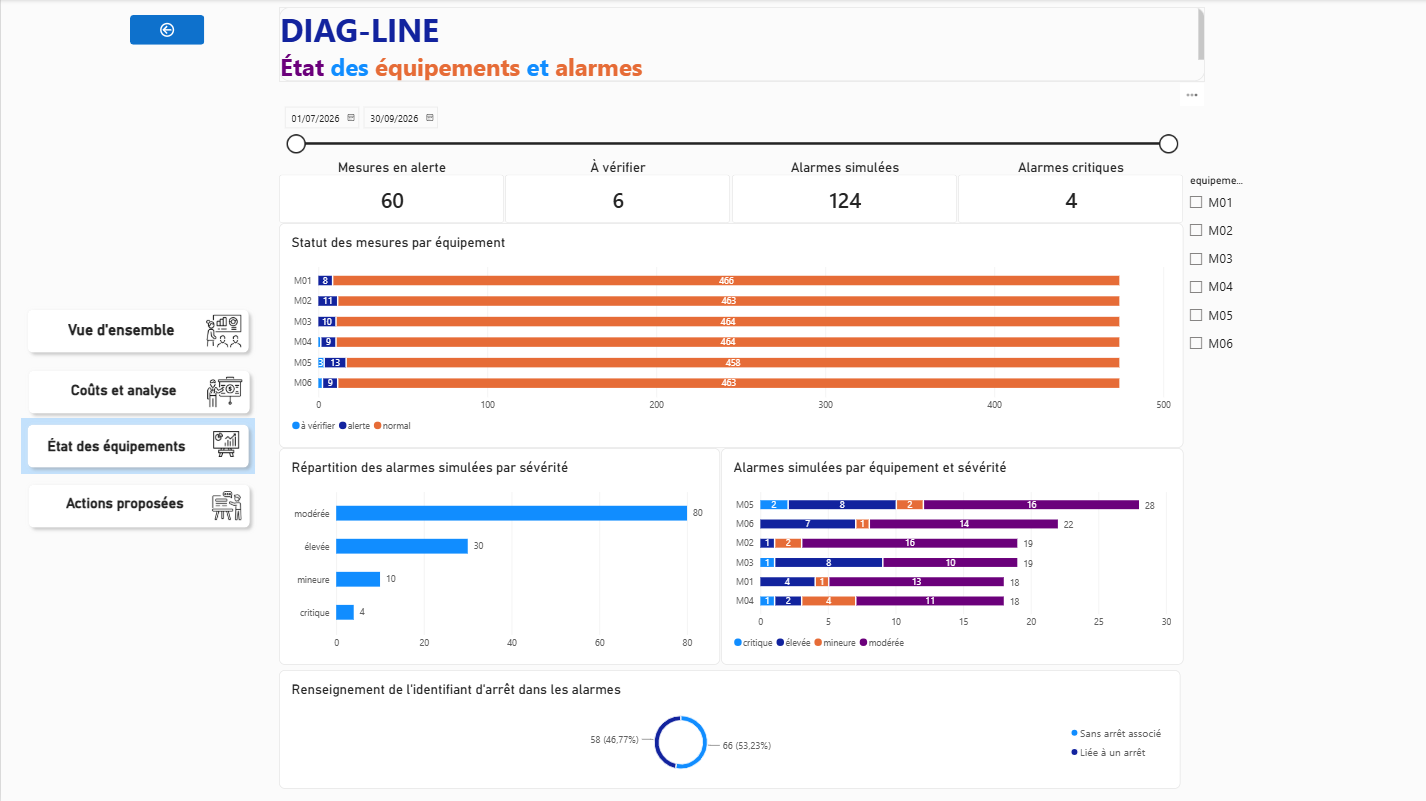

The dashboard page shown, as its layout file describes it:
{"tool":"powerbi","page":{"name":"03 - État des équipements ","canvas":[1920,1080],"ordinal":2},"visuals":[{"type":"textbox","box":[374.3,11.4,1247.1,100],"z":0},{"type":"group","id":"g1","title":"Group 4","box":[26.7,564.4,315.7,75.7],"z":0,"group":"g6"},{"type":"actionButton","box":[174.3,21.4,100,40],"z":1000},{"type":"group","id":"g2","title":"Group 1","box":[27,410,315.7,75.7],"z":1000,"group":"g7"},{"type":"actionButton","title":" État des équipements ","box":[56.8,591.4,197.8,26.7],"z":1000,"group":"g6"},{"type":"slicer","fields":{"Values":["equipements.equipement_id"]},"box":[1592.9,235.7,100,254.3],"z":2000},{"type":"barChart","title":"Statut des mesures par équipement","fields":{"Category":["mesures_condition.equipement_id"],"Series":["mesures_condition.statut_mesure"],"Y":["CountNonNull(mesures_condition.mesure_id)"]},"box":[374.5,301.8,1217.8,303.1],"z":2000,"group":"g3"},{"type":"actionButton","title":"Vue d''ensemble","box":[90,434.4,164.4,25.6],"z":2000,"group":"g7"},{"type":"shape","box":[26.7,564.4,315.7,75.7],"z":2000,"group":"g1"},{"type":"group","id":"g3","title":"Group 2","box":[374.3,140,1218.6,922.9],"z":3000},{"type":"slicer","fields":{"Values":["mesures_condition.date_heure"]},"box":[374.8,140,1214.3,76.9],"z":3000,"group":"g3"},{"type":"shape","box":[27,410,315.7,75.7],"z":3000,"group":"g2"},{"type":"shape","box":[27.8,491.1,315.7,75.7],"z":3000,"group":"g9"},{"type":"group","id":"g4","title":"Group 6","box":[27.8,491.1,315.7,75.7],"z":3001},{"type":"group","id":"g5","title":"Group 3","box":[27.8,645.6,315.7,75.7],"z":3002},{"type":"group","id":"g6","title":"Group 5","box":[26.7,564.4,315.6,75.6],"z":3003},{"type":"group","id":"g7","title":"Group 7","box":[27,410,315.7,75.7],"z":3004},{"type":"cardVisual","title":"Mesures en alerte","fields":{"Data":["CountNonNull(mesures_condition.mesure_id)"]},"box":[374.8,215.8,304,86.6],"z":4000,"group":"g8"},{"type":"clusteredBarChart","title":"Répartition des alarmes simulées par sévérité","fields":{"Category":["alarmes_simulees.severite"],"Y":["CountNonNull(alarmes_simulees.alarme_id)"]},"box":[374.5,604.9,594.5,292.3],"z":5000,"group":"g3"},{"type":"barChart","title":"Alarmes simulées par équipement et sévérité","fields":{"Category":["alarmes_simulees.equipement_id"],"Series":["alarmes_simulees.severite"],"Y":["CountNonNull(alarmes_simulees.alarme_id)"]},"box":[969,604.9,623.3,292.3],"z":6000,"group":"g3"},{"type":"donutChart","title":"Renseignement de l''identifiant d''arrêt dans les alarmes","fields":{"Category":["CategoriesAlarmes.TypeAlarme"],"Y":["CategoriesAlarmes.Nombre d'alarmes par type"]},"box":[374.3,903,1214.2,159.8],"z":7000,"group":"g3"},{"type":"cardVisual","title":"À vérifier","fields":{"Data":["CountNonNull(mesures_condition.mesure_id)"]},"box":[679,215.8,304,86.6],"z":8000,"group":"g8"},{"type":"cardVisual","title":"Alarmes critiques","fields":{"Data":["CountNonNull(alarmes_simulees.alarme_id)"]},"box":[1289.2,215.8,304,86.6],"z":9000,"group":"g8"},{"type":"cardVisual","title":"Alarmes simulées","fields":{"Data":["CountNonNull(alarmes_simulees.alarme_id)"]},"box":[985.1,215.8,304,86.6],"z":10000,"group":"g8"},{"type":"group","id":"g8","title":"Group 1","box":[374.8,215.8,1218.1,86.6],"z":13000,"group":"g3"},{"type":"shape","box":[27.8,645.6,315.7,75.7],"z":16000,"group":"g10"},{"type":"group","id":"g9","title":"Group 1","box":[27.8,491.1,315.7,75.7],"z":17000,"group":"g4"},{"type":"image","title":" État des équipements ","box":[277.9,582.5,49.2,35.4],"z":17000,"group":"g1"},{"type":"actionButton","title":"  Coûts et analyse ","box":[93.6,515.4,151.1,23.3],"z":19000,"group":"g4"},{"type":"image","title":"Actions proposées ","box":[275.5,660.3,56.2,45.4],"z":19000,"group":"g10"},{"type":"group","id":"g10","title":"Group 2","box":[27.8,645.6,315.7,75.7],"z":20000,"group":"g5"},{"type":"actionButton","title":"Actions proposées ","box":[86.9,668.3,170,28.9],"z":21000,"group":"g5"},{"type":"image","title":" Vue d''ensemble ","box":[272.1,420.8,55.7,54.3],"z":22000,"group":"g2"},{"type":"image","title":" Vue d''ensemble ","box":[272.9,501.9,55.7,54.3],"z":22000,"group":"g9"}]}

Visuals, with their boxes on the page's 1920x1080 design canvas (x1, y1, x2, y2). These are canvas units, not pixel positions in the 1426x801 screenshot, which may show the page scaled, cropped or inside an application window:
textbox: [left=374, top=11, right=1621, bottom=111]
"Group 4" group: [left=27, top=564, right=342, bottom=640]
actionButton: [left=174, top=21, right=274, bottom=61]
"Group 1" group: [left=27, top=410, right=343, bottom=486]
" État des équipements " actionButton: [left=57, top=591, right=255, bottom=618]
slicer - equipements.equipement_id: [left=1593, top=236, right=1693, bottom=490]
"Statut des mesures par équipement" barChart: [left=374, top=302, right=1592, bottom=605]
"Vue d''ensemble" actionButton: [left=90, top=434, right=254, bottom=460]
shape: [left=27, top=564, right=342, bottom=640]
"Group 2" group: [left=374, top=140, right=1593, bottom=1063]
slicer - mesures_condition.date_heure: [left=375, top=140, right=1589, bottom=217]
shape: [left=27, top=410, right=343, bottom=486]
shape: [left=28, top=491, right=344, bottom=567]
"Group 6" group: [left=28, top=491, right=344, bottom=567]
"Group 3" group: [left=28, top=646, right=344, bottom=721]
"Group 5" group: [left=27, top=564, right=342, bottom=640]
"Group 7" group: [left=27, top=410, right=343, bottom=486]
"Mesures en alerte" cardVisual: [left=375, top=216, right=679, bottom=302]
"Répartition des alarmes simulées par sévérité" clusteredBarChart: [left=374, top=605, right=969, bottom=897]
"Alarmes simulées par équipement et sévérité" barChart: [left=969, top=605, right=1592, bottom=897]
"Renseignement de l''identifiant d''arrêt dans les alarmes" donutChart: [left=374, top=903, right=1588, bottom=1063]
"À vérifier" cardVisual: [left=679, top=216, right=983, bottom=302]
"Alarmes critiques" cardVisual: [left=1289, top=216, right=1593, bottom=302]
"Alarmes simulées" cardVisual: [left=985, top=216, right=1289, bottom=302]
"Group 1" group: [left=375, top=216, right=1593, bottom=302]
shape: [left=28, top=646, right=344, bottom=721]
"Group 1" group: [left=28, top=491, right=344, bottom=567]
" État des équipements " image: [left=278, top=582, right=327, bottom=618]
"  Coûts et analyse " actionButton: [left=94, top=515, right=245, bottom=539]
"Actions proposées " image: [left=276, top=660, right=332, bottom=706]
"Group 2" group: [left=28, top=646, right=344, bottom=721]
"Actions proposées " actionButton: [left=87, top=668, right=257, bottom=697]
" Vue d''ensemble " image: [left=272, top=421, right=328, bottom=475]
" Vue d''ensemble " image: [left=273, top=502, right=329, bottom=556]
